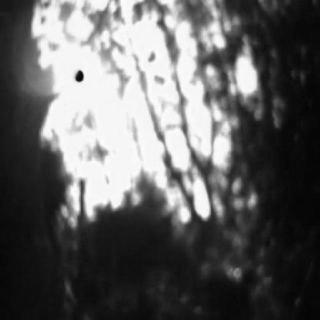other: (30, 9, 268, 222)
